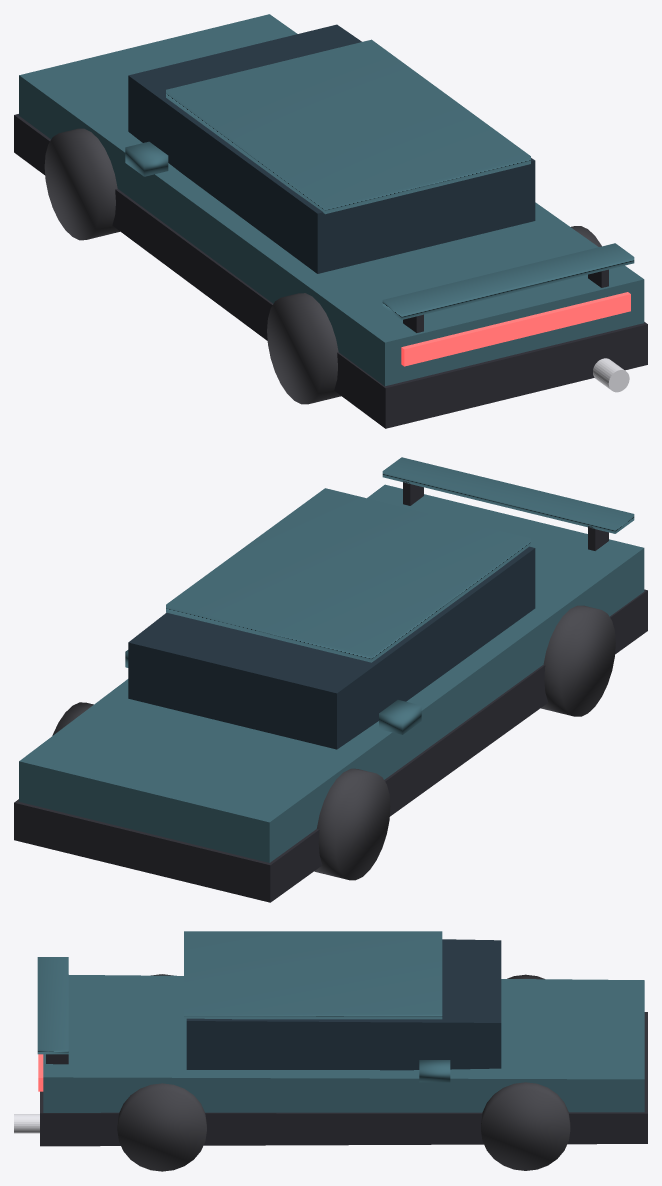
The model's file is car_st20.glb.
3 views of the same model, one above another, from view 1: azimuth 30°, elevation 25°; view 2: azimuth 150°, elevation 25°; view 3: azimuth 270°, elevation 25° (orthographic). The views are drawn at different scales.
Parts seen in each view (by area): view 1: ST20_Body, Cube, ST20_GlassCabin, ST20_Lower, FL_Tire, RL_Tire, Cube.006, Cube.003, Cube.007, Cylinder; view 2: ST20_Body, Cube, ST20_GlassCabin, ST20_Lower, FL_Tire, RL_Tire, Cube.006, Cube.007; view 3: ST20_Body, Cube, ST20_GlassCabin, ST20_Lower, FR_Tire, RR_Tire, Cube.006, Cube.008, Cylinder.
Boxes of the visible parts, box(x1,y1,x2,y2) form: ST20_Body: box(19, 14, 644, 386); Cube: box(166, 39, 530, 214); ST20_GlassCabin: box(128, 24, 535, 273); ST20_Lower: box(14, 114, 647, 428); FL_Tire: box(44, 128, 119, 240); RL_Tire: box(267, 293, 341, 404); Cube.006: box(382, 243, 634, 319); Cube.003: box(401, 292, 630, 366); Cube.007: box(125, 141, 168, 176); Cylinder: box(593, 358, 629, 392); ST20_Body: box(19, 484, 644, 862); Cube: box(166, 488, 530, 662); ST20_GlassCabin: box(128, 546, 535, 749); ST20_Lower: box(14, 589, 647, 902); FL_Tire: box(314, 768, 390, 880); RL_Tire: box(541, 605, 615, 716); Cube.006: box(382, 457, 634, 533); Cube.007: box(379, 700, 421, 734); ST20_Body: box(43, 975, 644, 1112); Cube: box(184, 931, 442, 1019); ST20_GlassCabin: box(186, 939, 501, 1070); ST20_Lower: box(40, 1012, 647, 1146); FR_Tire: box(481, 1082, 570, 1170); RR_Tire: box(117, 1083, 206, 1171); Cube.006: box(37, 957, 68, 1054); Cube.008: box(419, 1060, 450, 1082); Cylinder: box(14, 1114, 39, 1133).
Size of the model in its own units: 1.97 by 1.12 by 4.53.
